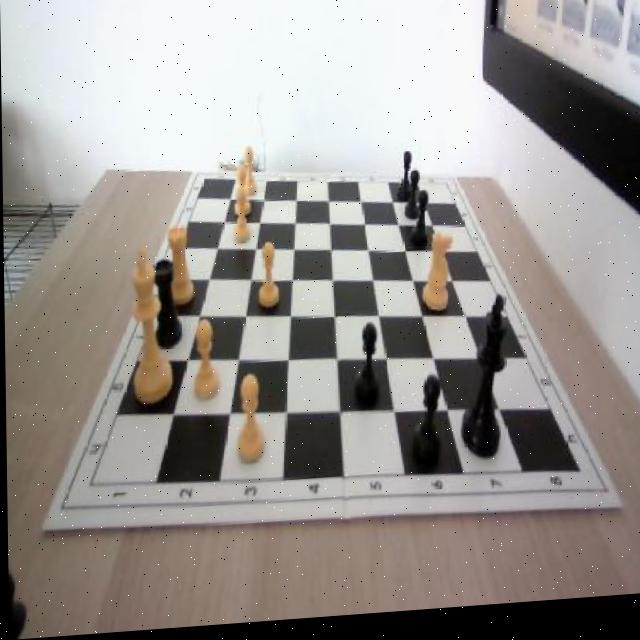black-bishop: (454, 300, 507, 468)
black-knight: (411, 384, 442, 473), (353, 326, 378, 409), (410, 199, 428, 255), (396, 158, 413, 210), (404, 175, 420, 225)
black-queen: (148, 262, 183, 349)
white-bishop: (124, 250, 172, 407)
white-king: (422, 240, 451, 319)
white-knight: (234, 374, 265, 466), (193, 323, 223, 407), (257, 242, 279, 312), (232, 190, 252, 247), (233, 167, 249, 221), (242, 148, 255, 199)
white-queen: (167, 218, 193, 308)
